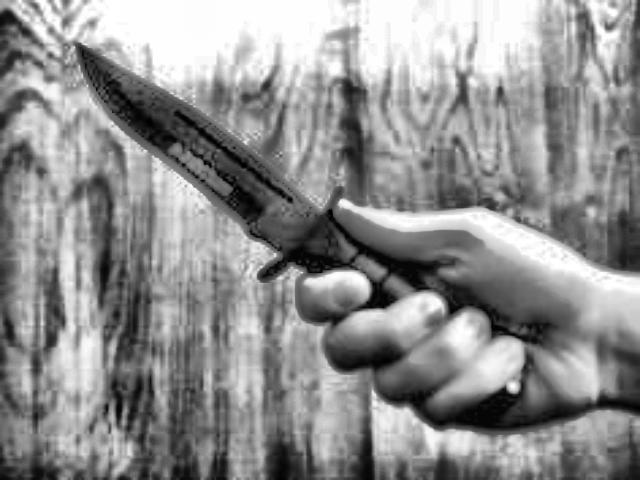knife: (66, 24, 420, 320)
